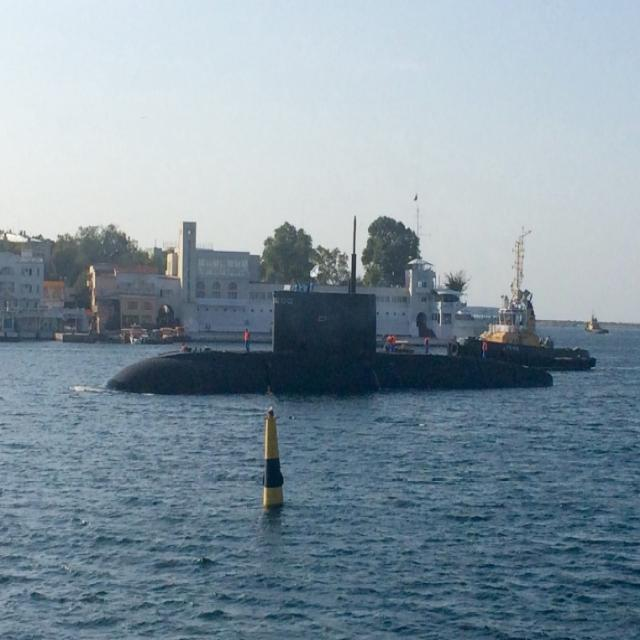submarine: (104, 294, 553, 392)
